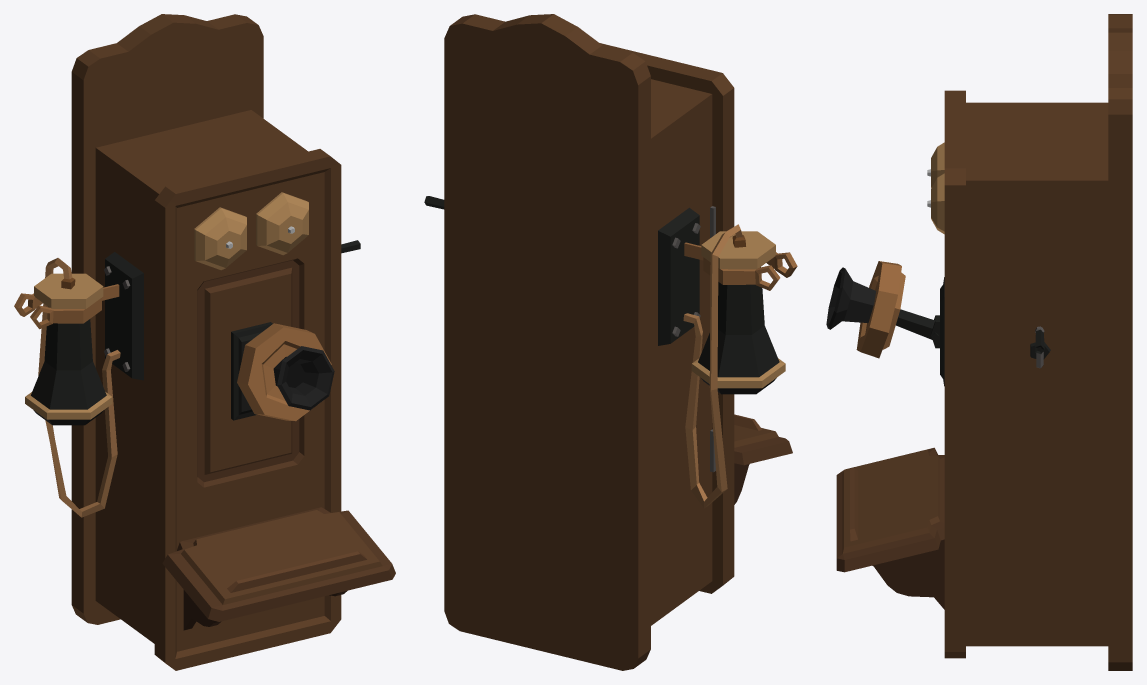
The model's file is telephone-wall-victorian.fbx.
3 renders of one model, left to right at view 1: azimuth 30°, elevation 25°; view 2: azimuth 150°, elevation 25°; view 3: azimuth 270°, elevation 25°, orthographic. The views are drawn at different scales.
Parts seen in each view (by area): view 1: telephone-wall-victorian; view 2: telephone-wall-victorian; view 3: telephone-wall-victorian.
Boxes of the visible parts, x1=… form: telephone-wall-victorian: x1=14, y1=14, x2=395, y2=670; telephone-wall-victorian: x1=424, y1=14, x2=797, y2=670; telephone-wall-victorian: x1=826, y1=14, x2=1132, y2=670.
Size of the model in its own units: 40.98 by 68.11 by 31.52.
Materials: 1 (1 with a texture image).
